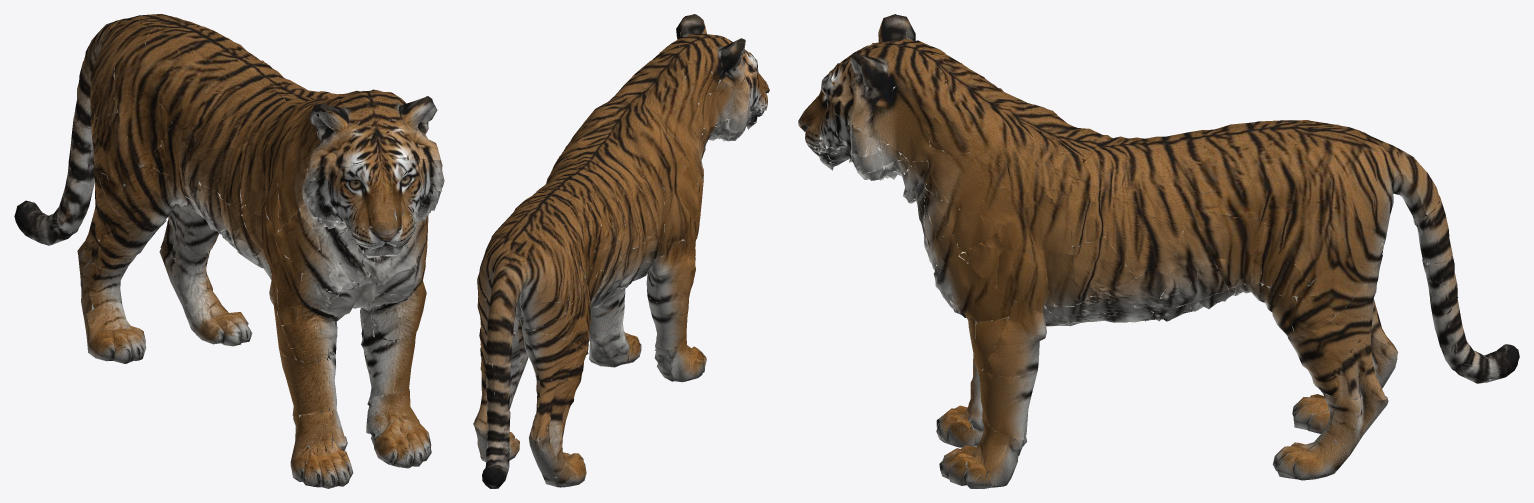
Rendered from tigre.fbx.
3 renders of one model, left to right at view 1: azimuth 30°, elevation 25°; view 2: azimuth 150°, elevation 25°; view 3: azimuth 270°, elevation 25°, orthographic. The views are drawn at different scales.
Visible parts, largest first — view 1: Mesh_0; view 2: Mesh_0; view 3: Mesh_0.
Boxes of the visible parts, x1,y1,x2,y2 form: Mesh_0: (14,14,444,488); Mesh_0: (473,14,769,488); Mesh_0: (798,14,1519,488).
Bounding box in the file's own units: 55.62 × 127 × 204.
1 material, 1 textured.
